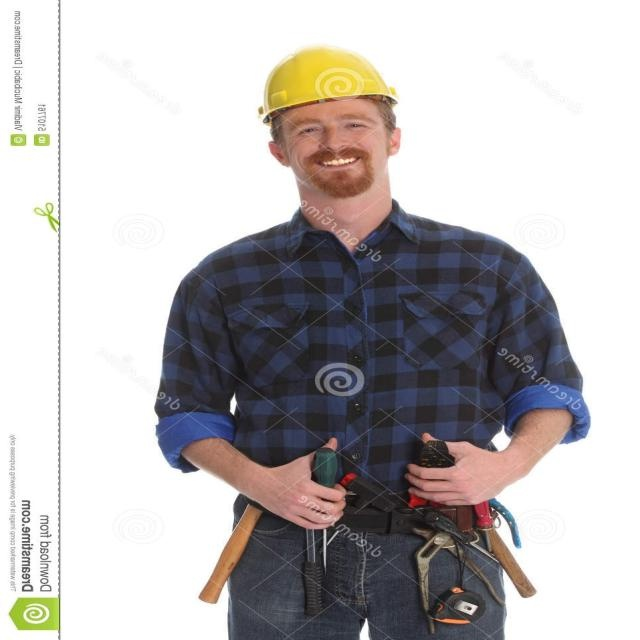Con_Casco: (260, 48, 396, 200)
Sin_Chaleco: (214, 218, 522, 507)
